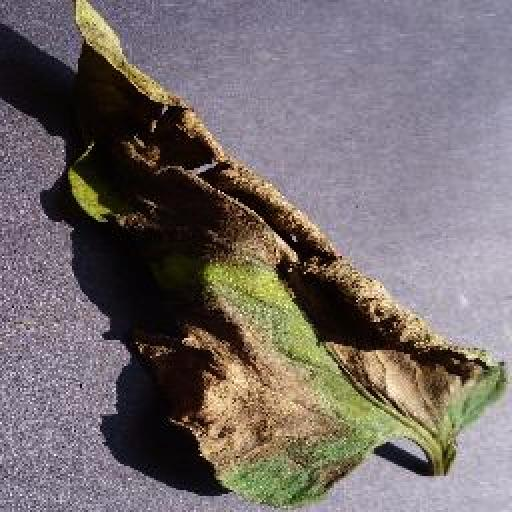disease_tomato: (63, 0, 509, 512)
